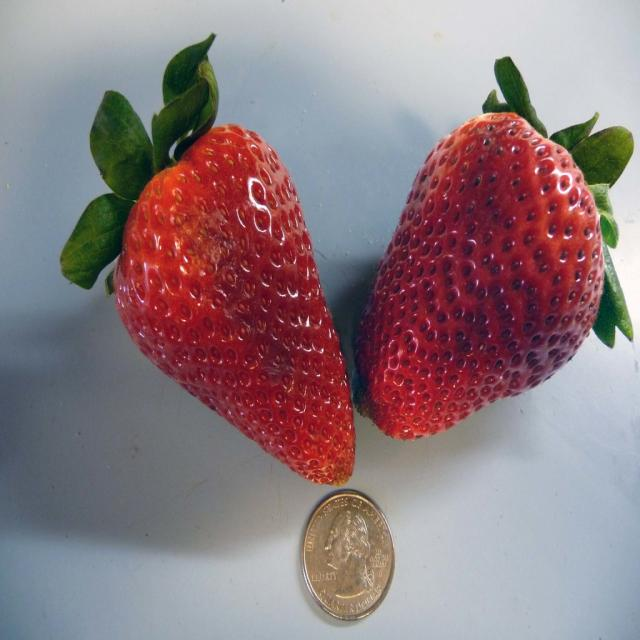Coin: (299, 485, 394, 622)
